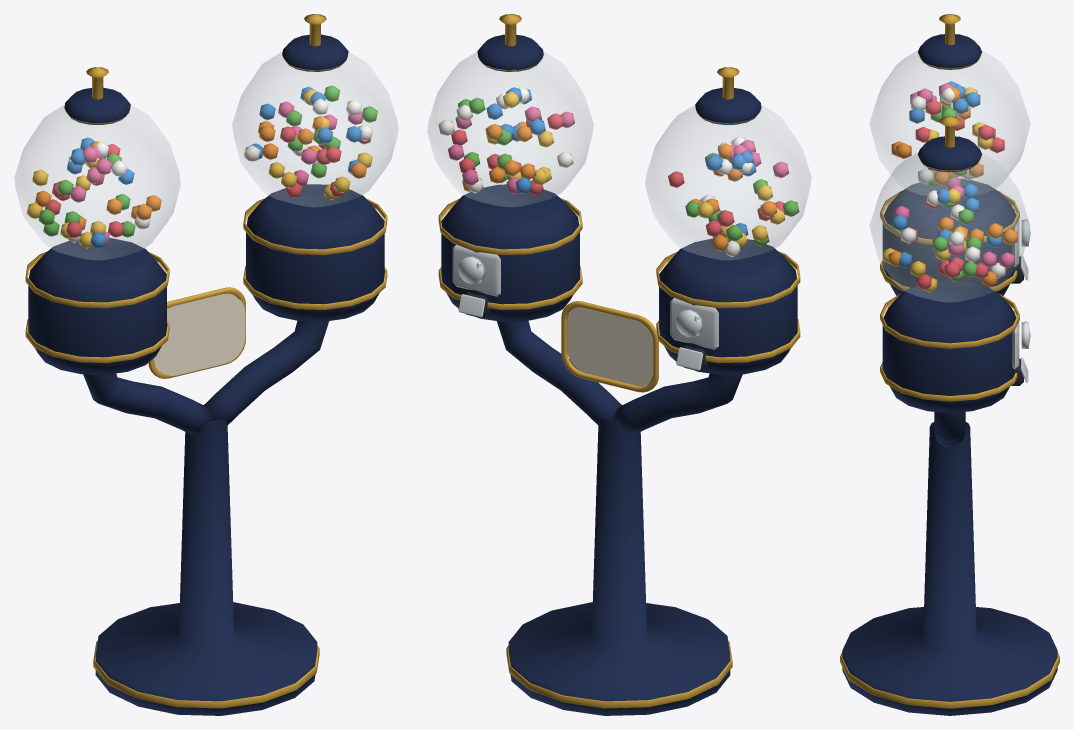
The model's file is gumball_T2.fbx.
3 views of the same model, side by side, from view 1: azimuth 30°, elevation 25°; view 2: azimuth 150°, elevation 25°; view 3: azimuth 270°, elevation 25° (orthographic). The views are drawn at different scales.
Parts seen in each view (by area): view 1: Body; view 2: Body; view 3: Body.
Part boxes in pixels (x1,y1,x2,y2): Body: (14, 14, 398, 715); Body: (427, 14, 811, 715); Body: (840, 14, 1059, 715).
Size of the model in its own units: 0.9 by 1.49 by 0.49.
